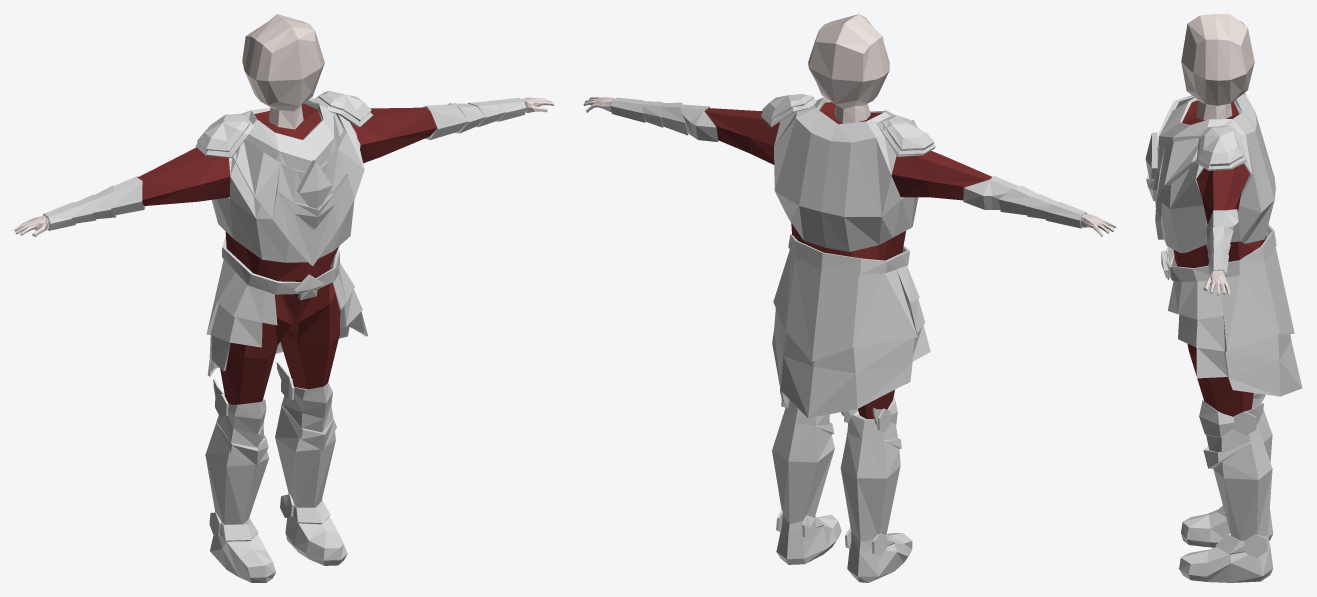
Rendered from Hero_01.fbx.
3 renders of one model, left to right at view 1: azimuth 30°, elevation 25°; view 2: azimuth 150°, elevation 25°; view 3: azimuth 270°, elevation 25°, orthographic.
Visible parts, largest first — view 1: Heroi1, Armadura2, Armadura1; view 2: Heroi1, Armadura1, Armadura2; view 3: Heroi1, Armadura1, Armadura2.
Part boxes in pixels (x1,y1,x2,y2): Heroi1: (14,14,554,582); Armadura2: (195,90,372,265); Armadura1: (206,235,367,376); Heroi1: (583,14,1116,582); Armadura1: (772,234,930,418); Armadura2: (761,94,935,156); Heroi1: (1158,14,1275,582); Armadura1: (1161,224,1302,396); Armadura2: (1145,93,1246,239).
Bounding box in the file's own units: 213 × 206 × 53.91.
